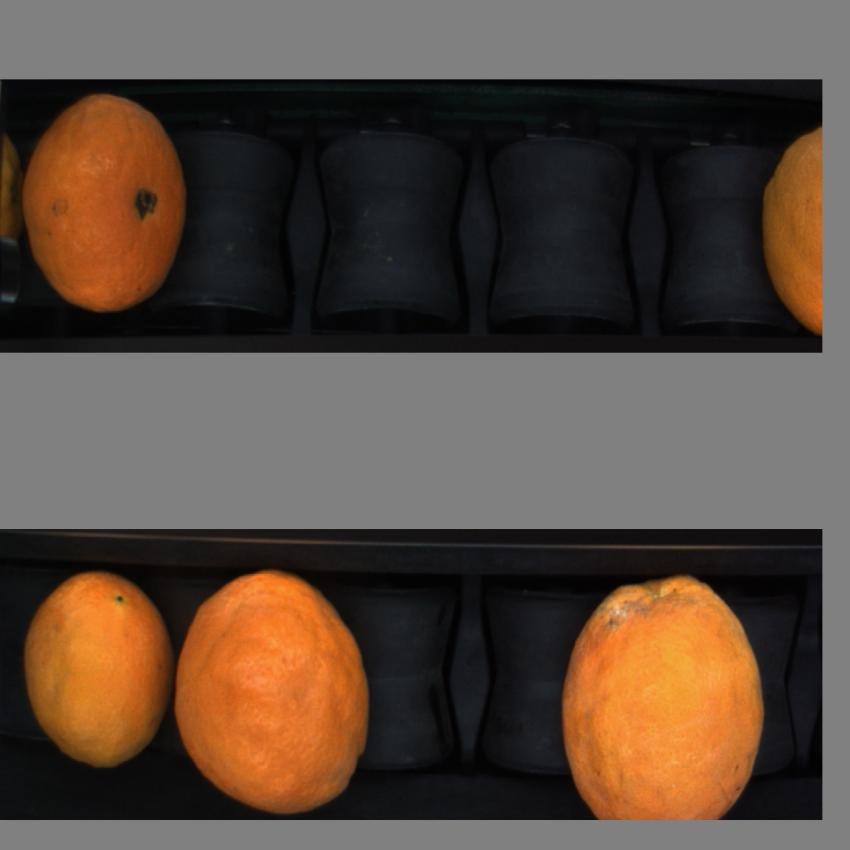Buen estado: (174, 573, 373, 811), (18, 564, 175, 775)
Mal estado: (556, 564, 770, 822), (19, 91, 192, 315), (756, 125, 824, 339)
